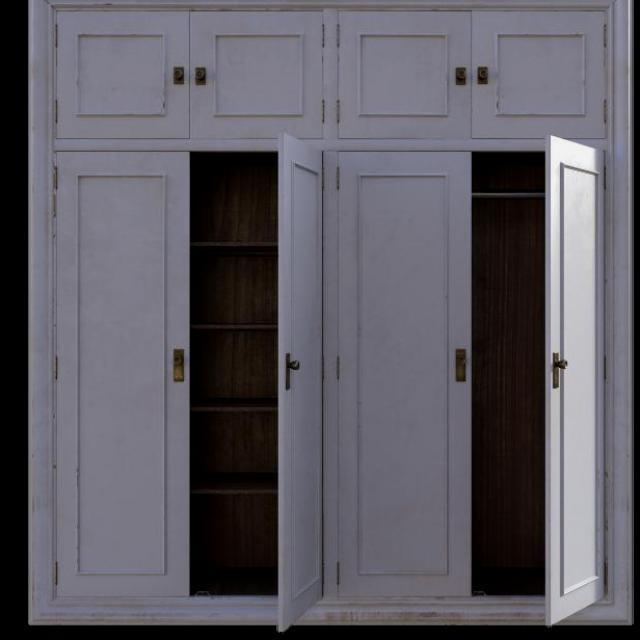door: (48, 141, 200, 603), (339, 135, 477, 606), (536, 118, 612, 620), (260, 122, 333, 633)
